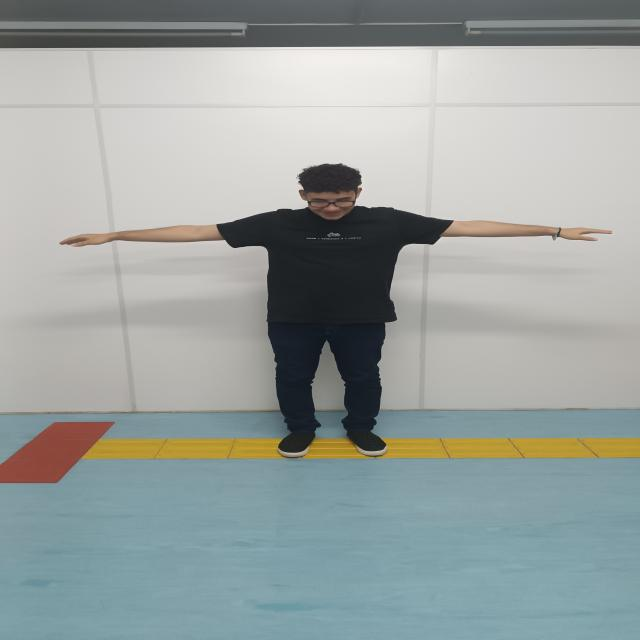takeoff: (60, 164, 612, 458)
